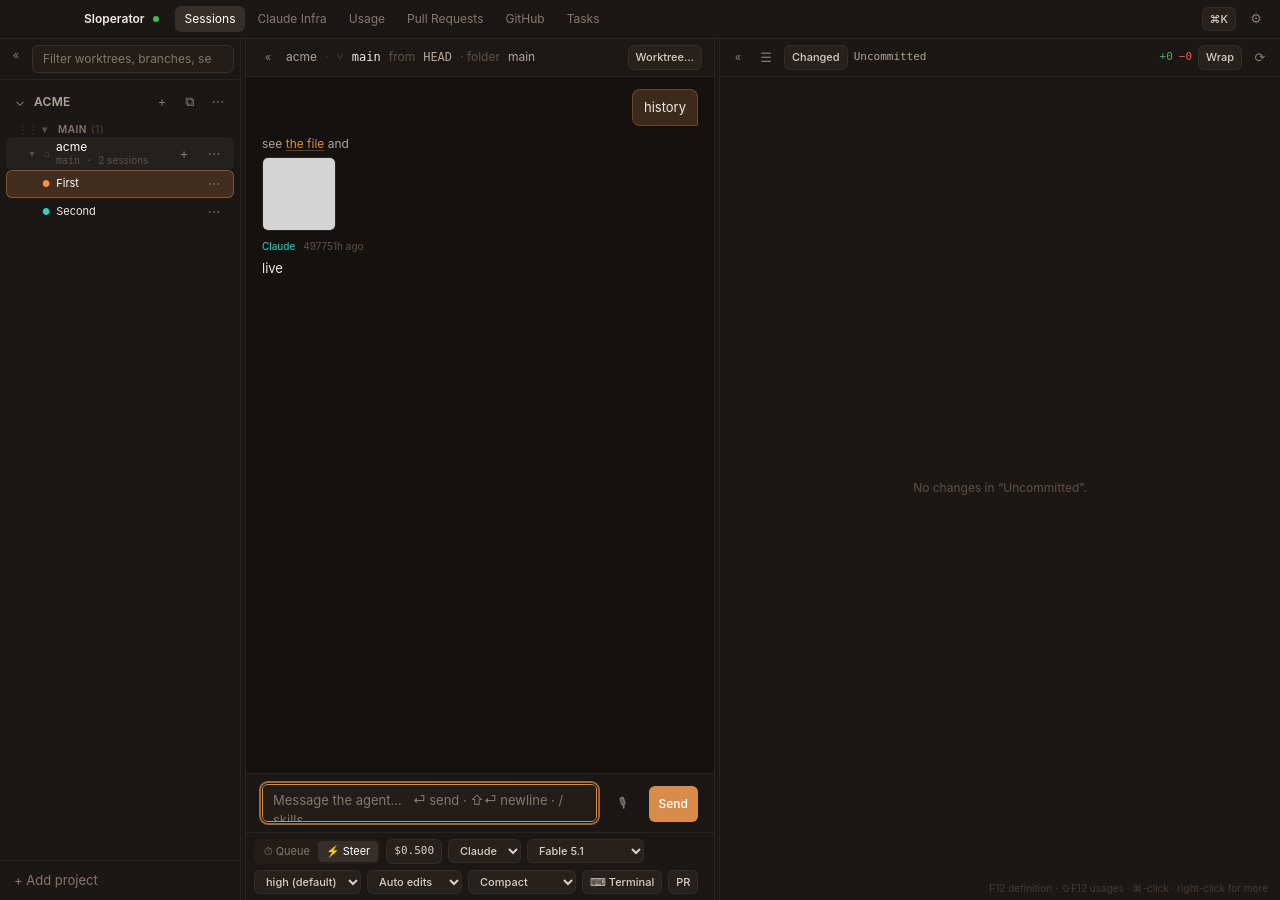
Test: the pull request button in a session › shows a plain PR button when the branch has none, and survives GitHub being unreachable
What coordinates should you click on to do the following:
click the button with aria-label "Pull request for this branch"
I would click on:
 (683, 882)
Its box is 668,870 -> 698,894.
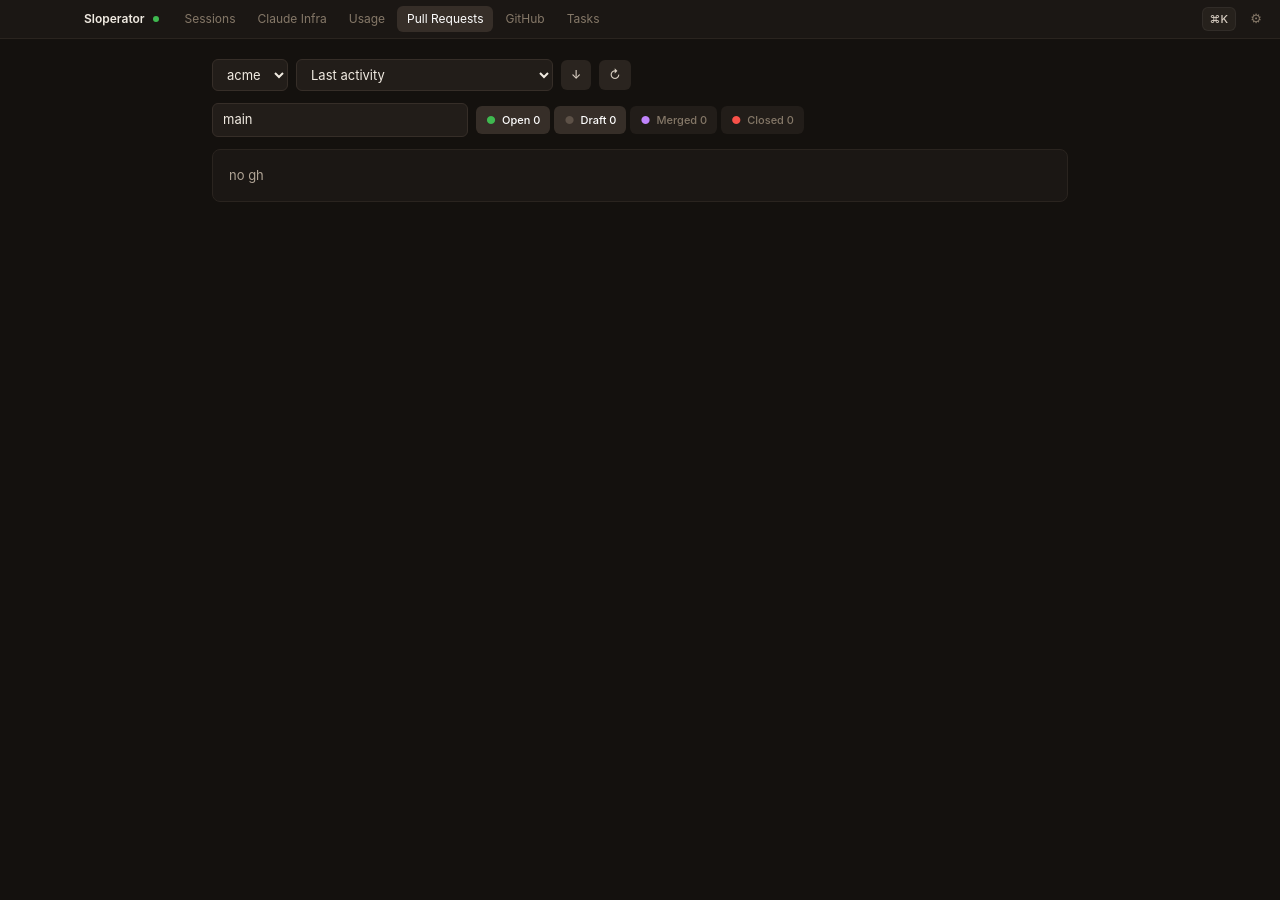
Check: the search field named "Search pull requests" holds "main", box 212,103 -> 468,136
